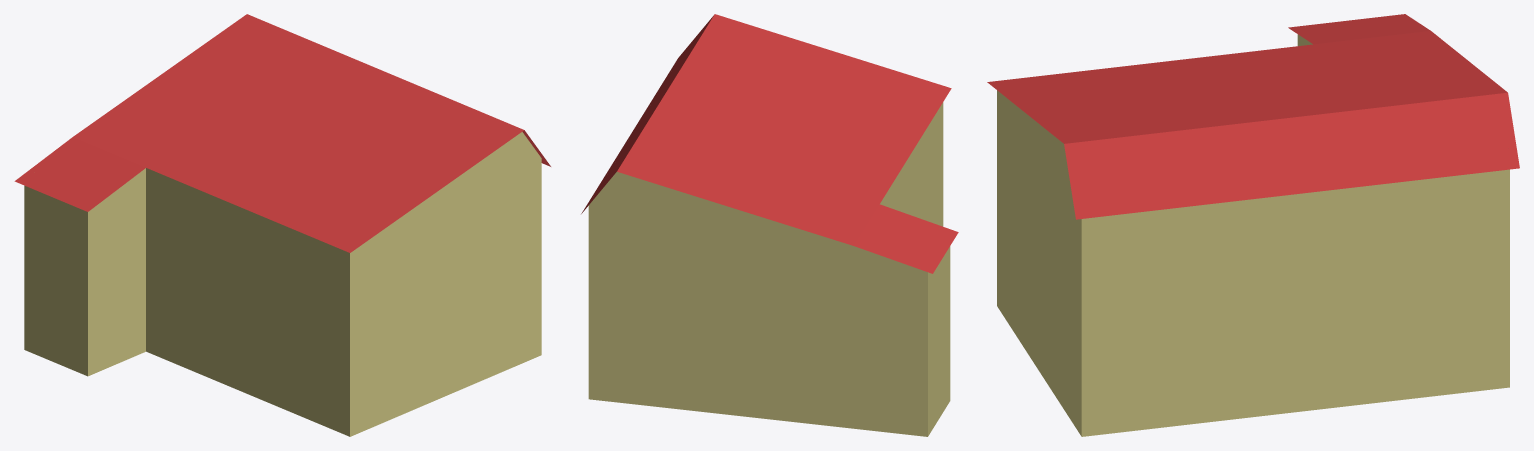
The picture shows the model from 3 angles, left to right: view 1: azimuth 30°, elevation 25°; view 2: azimuth 150°, elevation 25°; view 3: azimuth 270°, elevation 25°; orthographic projection. The views are drawn at different scales.
Bounding box in the file's own units: 16.58 × 16.33 × 9.43.
